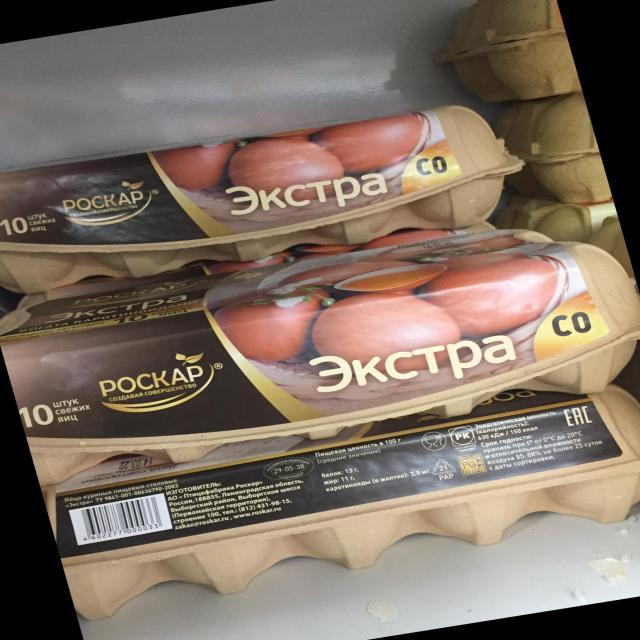organic waste: (0, 206, 640, 488), (0, 88, 546, 307)
